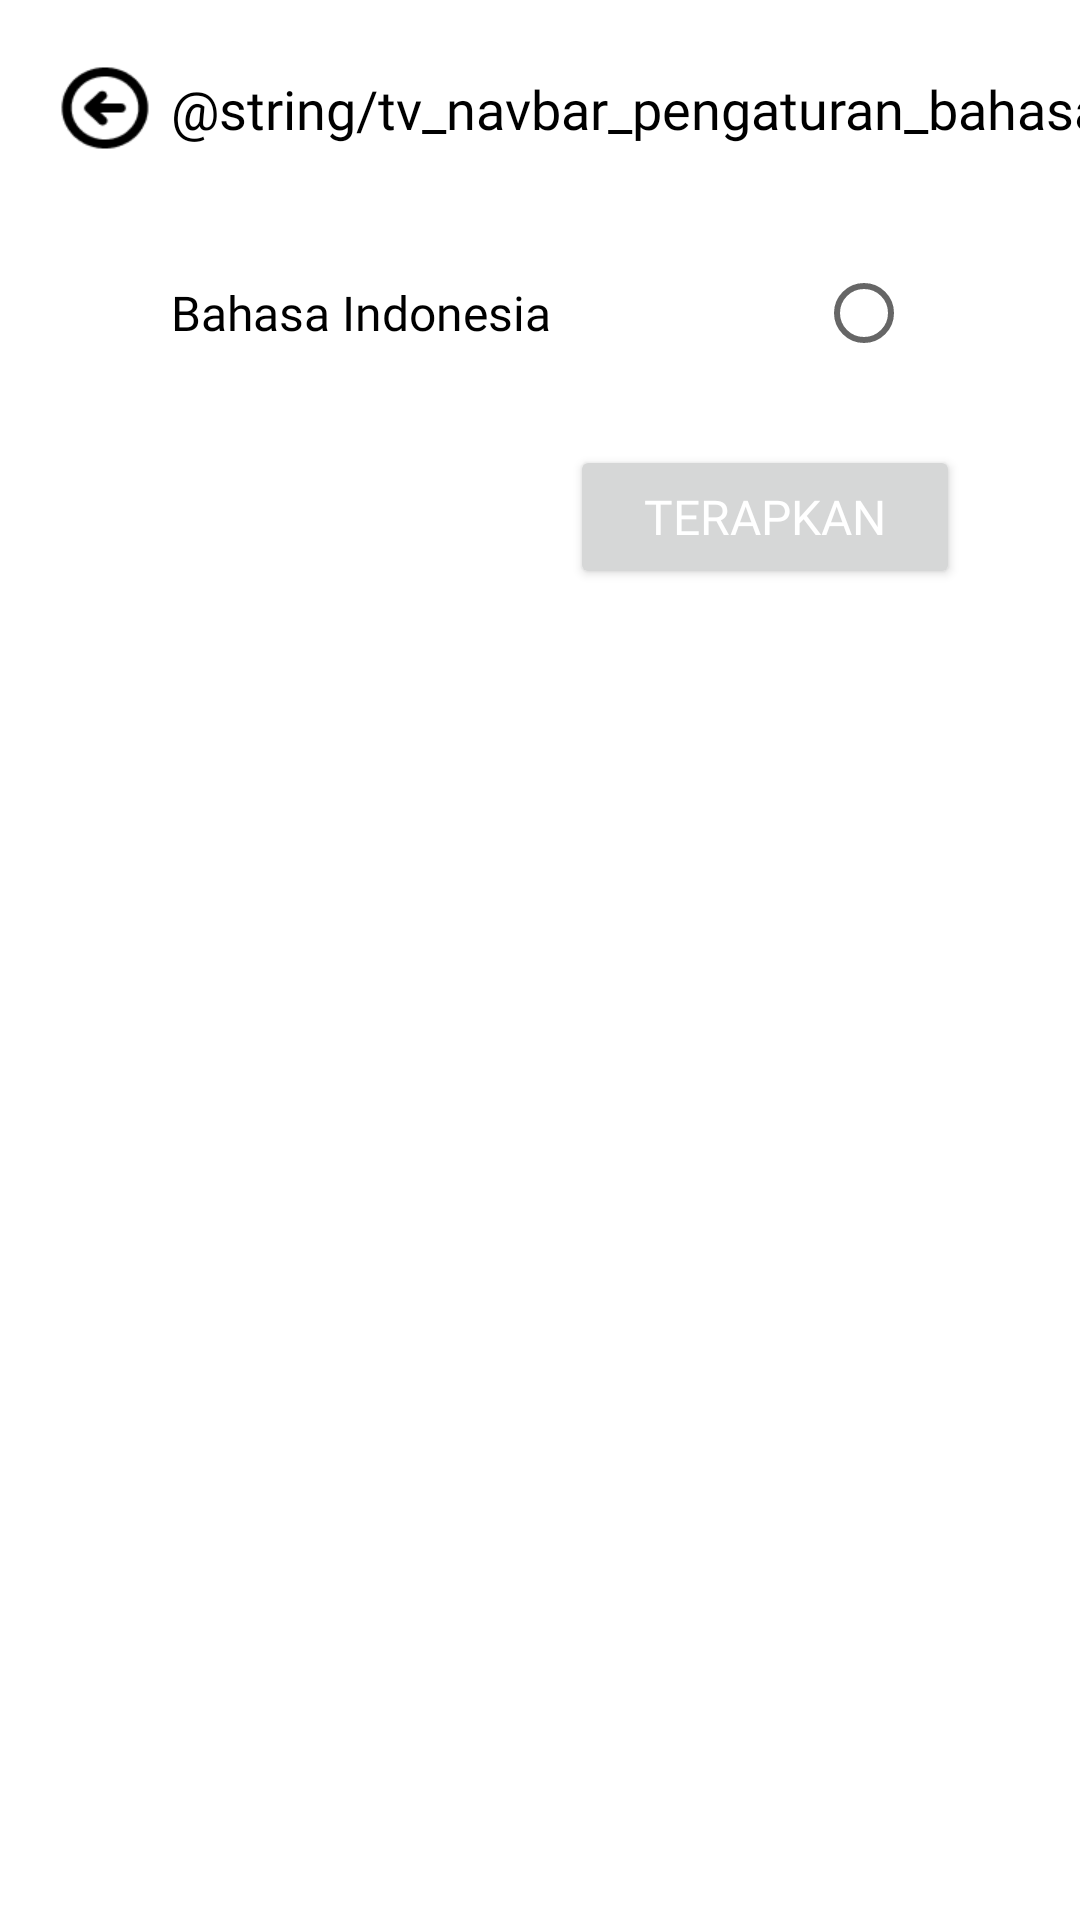

Named icons in this screenshot (1080×1920) and their centers, [x,y]:
back: [105,108]
